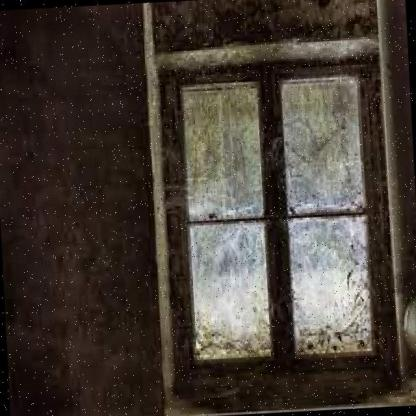Window: (163, 56, 388, 383)
